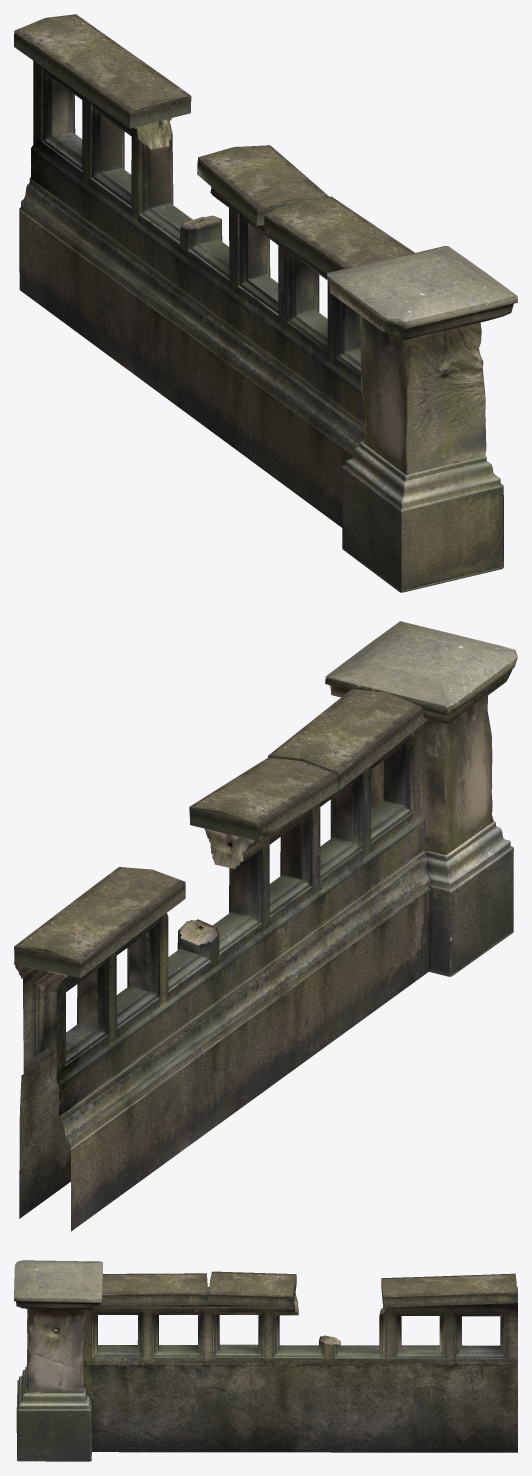
Rendered from sm_GraveBanister_01_07.fbx.
3 views of the same model, one above another, from view 1: azimuth 30°, elevation 25°; view 2: azimuth 150°, elevation 25°; view 3: azimuth 270°, elevation 25° (orthographic). The views are drawn at different scales.
Visible parts, largest first — view 1: sm_GraveBanister_01_07_LOD0; view 2: sm_GraveBanister_01_07_LOD0; view 3: sm_GraveBanister_01_07_LOD0.
Part boxes in pixels (box(x1,y1,x2,y2)): sm_GraveBanister_01_07_LOD0: box(14, 14, 517, 592); sm_GraveBanister_01_07_LOD0: box(14, 621, 517, 1231); sm_GraveBanister_01_07_LOD0: box(14, 1260, 517, 1461).
Bounding box in the file's own units: 48.3 × 277 × 104.
